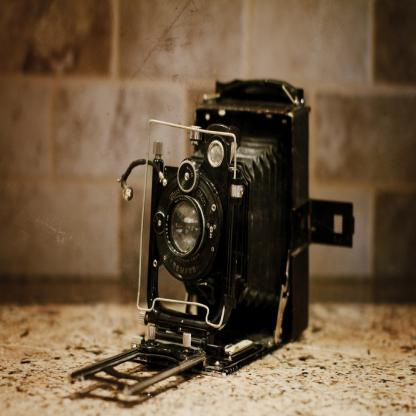Camera: (114, 88, 323, 374)
